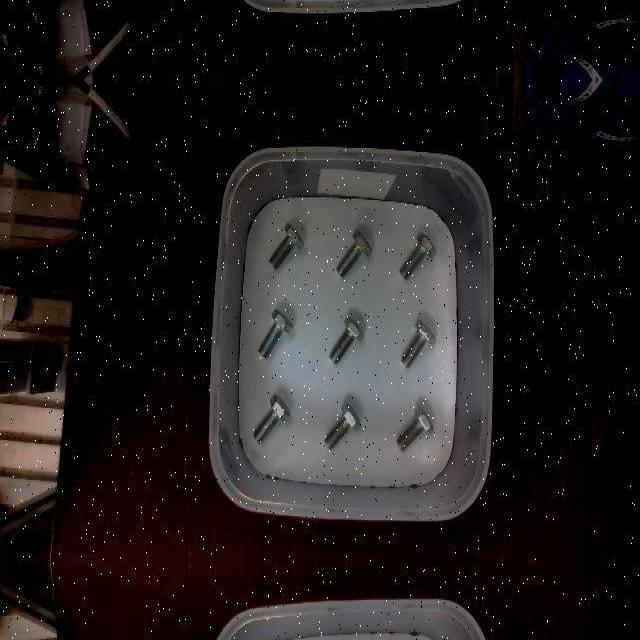screw: (400, 231, 437, 279), (258, 307, 293, 357), (396, 403, 434, 449), (328, 315, 364, 363), (253, 395, 289, 443), (336, 230, 372, 278), (401, 319, 436, 367), (324, 401, 360, 447), (269, 222, 304, 268)
